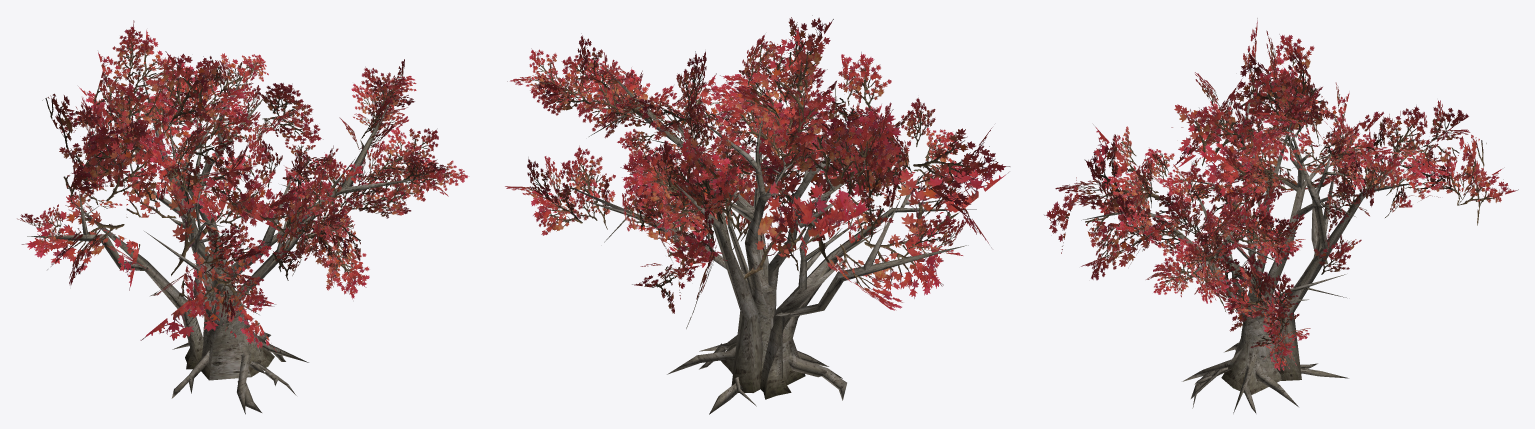
Rendered from XCZ_Tree_maple01_LOD2.FBX.
The picture shows the model from 3 angles, left to right: view 1: azimuth 30°, elevation 25°; view 2: azimuth 150°, elevation 25°; view 3: azimuth 270°, elevation 25°; orthographic projection. The views are drawn at different scales.
Parts seen in each view (by area): view 1: XCZ_Tree_maple01_02_LOD2, XCZ_Tree_maple01_01_LOD2; view 2: XCZ_Tree_maple01_02_LOD2, XCZ_Tree_maple01_01_LOD2; view 3: XCZ_Tree_maple01_02_LOD2, XCZ_Tree_maple01_01_LOD2.
Boxes of the visible parts, <box> form: XCZ_Tree_maple01_02_LOD2: <box>17,20,469,351</box>; XCZ_Tree_maple01_01_LOD2: <box>27,71,428,414</box>; XCZ_Tree_maple01_02_LOD2: <box>505,15,1010,328</box>; XCZ_Tree_maple01_01_LOD2: <box>561,59,976,414</box>; XCZ_Tree_maple01_02_LOD2: <box>1044,18,1518,370</box>; XCZ_Tree_maple01_01_LOD2: <box>1081,85,1422,413</box>.
Size of the model in its own units: 2515 by 2076 by 2544.
